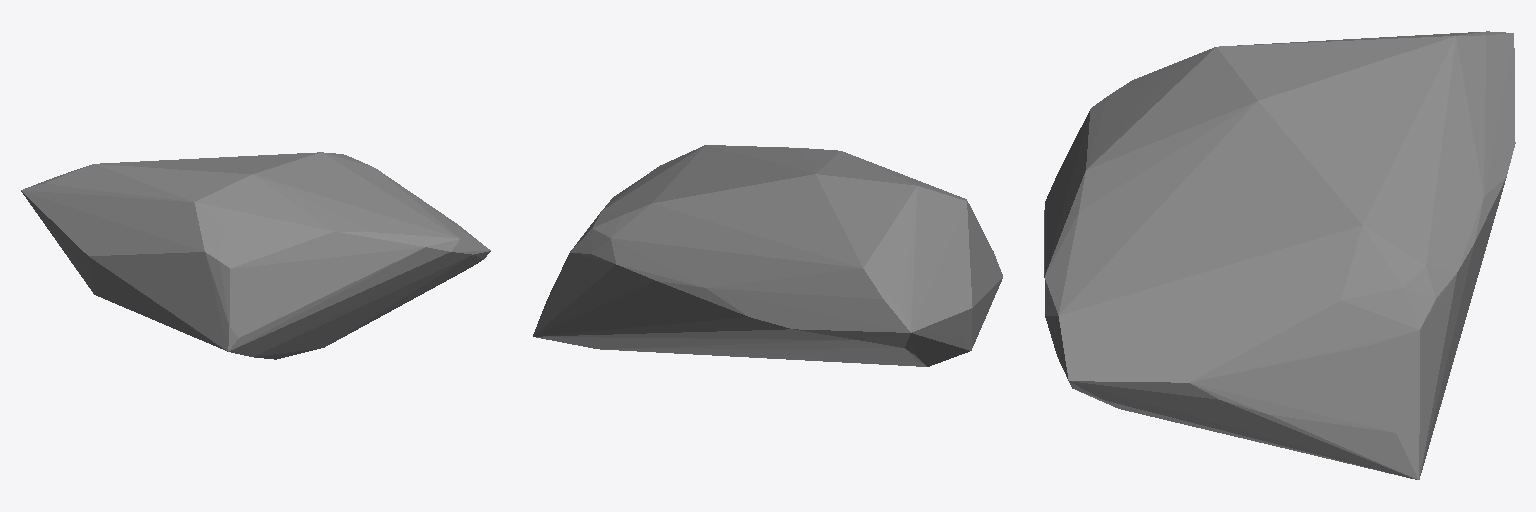
The robot description file, URDF, robot "30_117":
<?xml version="1.0"?>
<robot name="30_117">
  <link name="link">
    <contact>
      <lateral_friction value="0.6"/>
    </contact>
    <inertial>
      <mass value = "0.3303383947594728"/>
      <inertia ixx="0.00012100191556005984" ixy="-1.5250870772119039e-05" ixz="-1.8040290100151434e-05" iyy="0.00020227683979990685" iyz="7.777117210203313e-06" izz="0.00027001777510154355" />
    </inertial>
    <visual name="visual">
      <geometry>
        <mesh filename="30_117.obj"/>
      </geometry>
      <material name="material">
        <color rgba="0.5717947297743667 0.5717947297743667 0.5717947297743667 1.0"/>
      </material>
    </visual>
    <collision name="collision">
      <geometry>
        <mesh filename="30_117.obj"/>
      </geometry>
    </collision>
  </link>
</robot>

--- Render facts (derived) ---
3 views of the same robot in one strip: view 1: azimuth 30°, elevation 25°; view 2: azimuth 150°, elevation 25°; view 3: azimuth 270°, elevation 25° (orthographic).
Robot: 30_117 — 1 links, 0 joints (none); root link link; default pose: all joints at 0.
Visible links, largest first — view 1: link; view 2: link; view 3: link.
Link boxes in pixels (left/top/right/bottom): link: left=21, top=152, right=490, bottom=359; link: left=533, top=145, right=1002, bottom=366; link: left=1044, top=31, right=1515, bottom=479.
Size in the robot's own frame: 0.0987 by 0.0713 by 0.0396 metres.
Meshes: 1 distinct files referenced, 1 mesh visuals loaded (1 OBJ).
